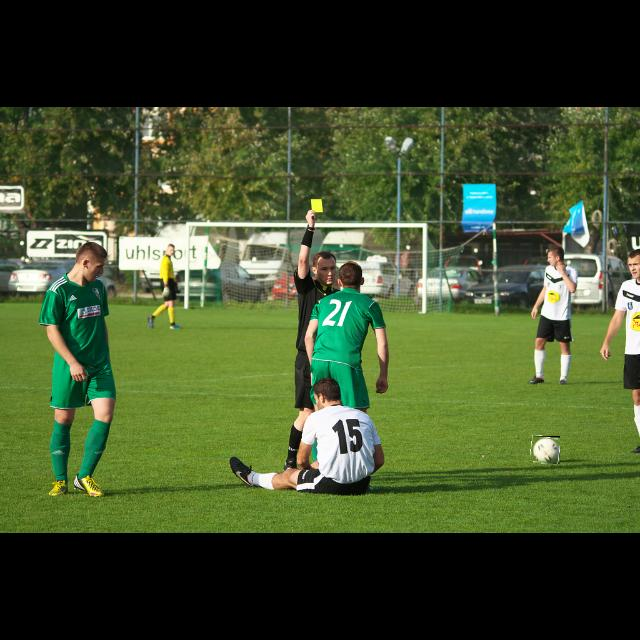Football: (530, 436, 560, 464)
